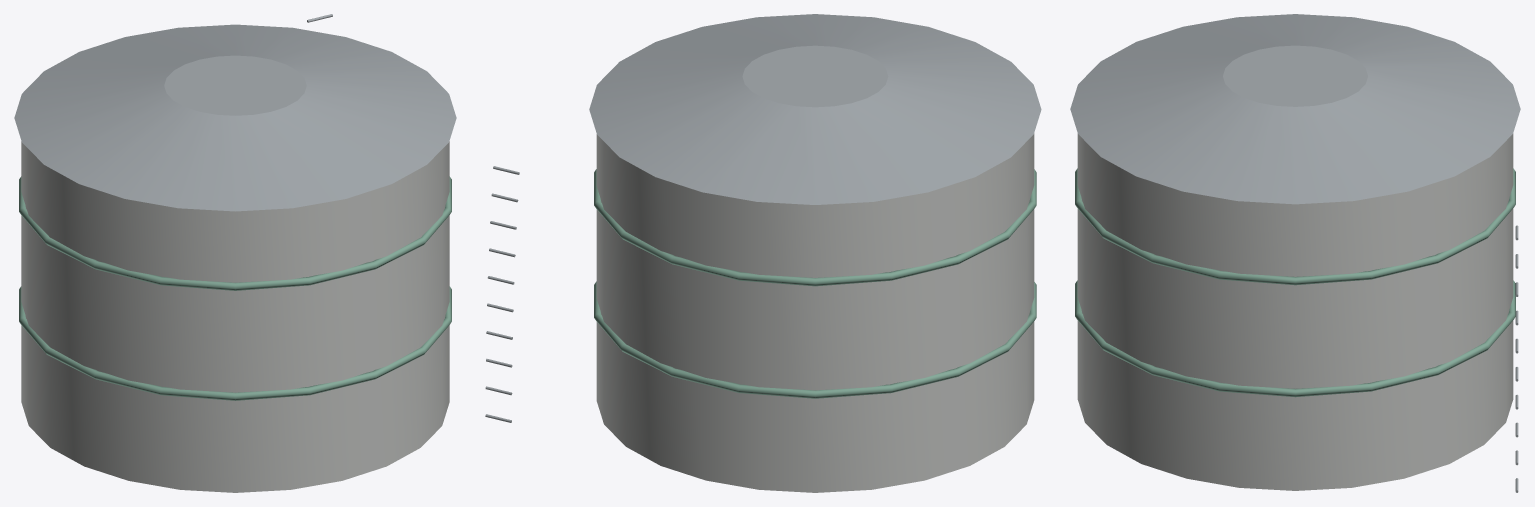
The model's file is tank.glb.
The picture shows the model from 3 angles, left to right: view 1: azimuth 30°, elevation 25°; view 2: azimuth 150°, elevation 25°; view 3: azimuth 270°, elevation 25°; orthographic projection. The views are drawn at different scales.
Parts seen in each view (by area): view 1: tank_Palette; view 2: tank_Palette; view 3: tank_Palette.
Part boxes in pixels (<box>): tank_Palette: <box>14,14,456,492</box>; tank_Palette: <box>485,14,1041,492</box>; tank_Palette: <box>1070,14,1520,492</box>.
Size of the model in its own units: 6.55 by 4.9 by 6.2.
